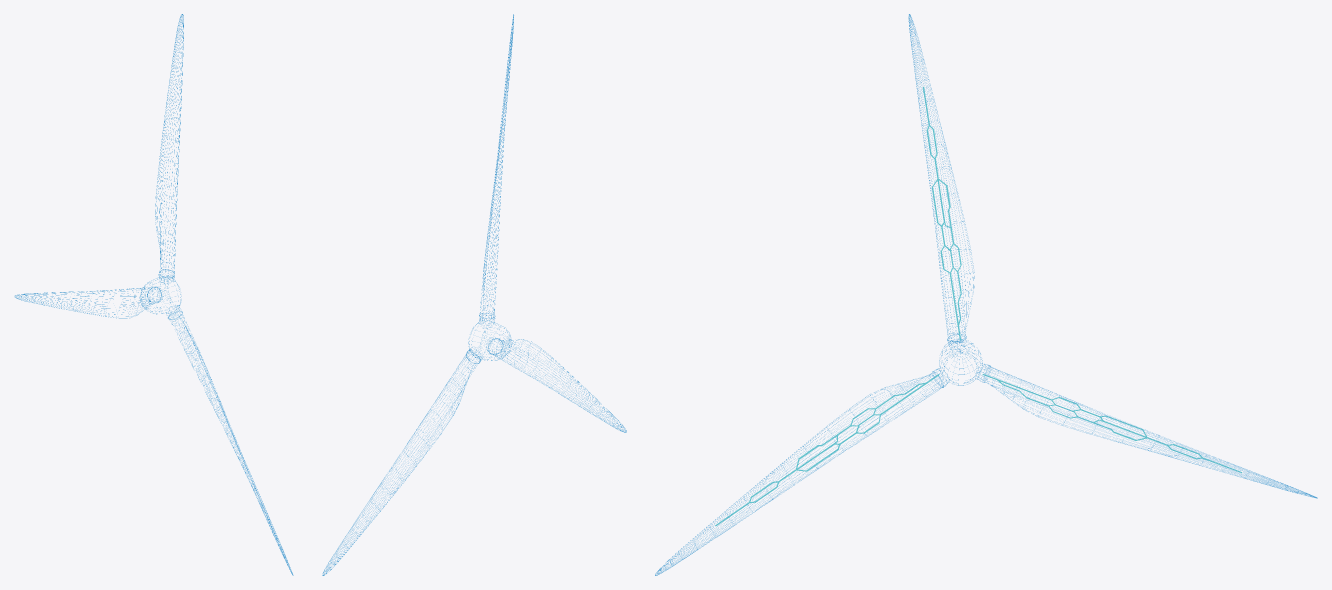
The model's file is liuguang.glb.
The picture shows the model from 3 angles, left to right: view 1: azimuth 30°, elevation 25°; view 2: azimuth 150°, elevation 25°; view 3: azimuth 270°, elevation 25°; orthographic projection. The views are drawn at different scales.
Parts seen in each view (by area): view 1: 外壳; view 2: 外壳; view 3: 外壳, 模型_1, 模型, 模型_2.
Boxes of the visible parts, x1,y1,x2,y2 form: 外壳: (14,14,293,575); 外壳: (322,14,626,575); 外壳: (655,14,1317,575); 模型_1: (715,374,939,525); 模型: (923,86,961,340); 模型_2: (982,374,1242,473).
Size of the model in its own units: 15.66 by 219 by 235.
